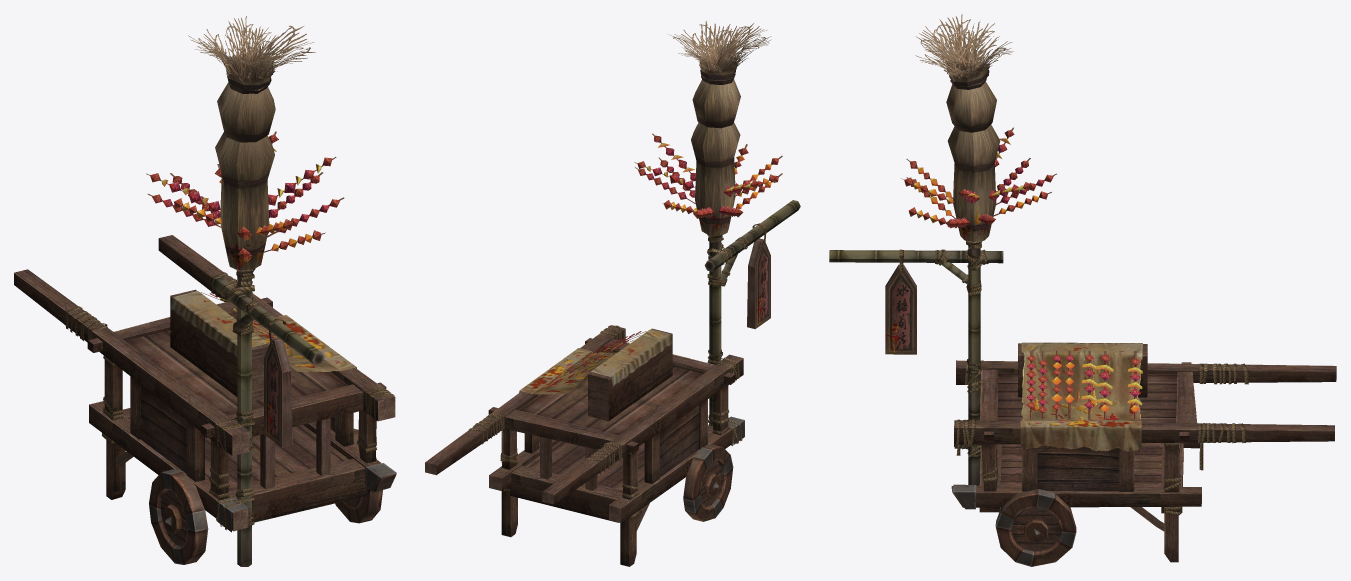
3 views of the same model, side by side, from view 1: azimuth 30°, elevation 25°; view 2: azimuth 150°, elevation 25°; view 3: azimuth 270°, elevation 25° (orthographic). The views are drawn at different scales.
Parts seen in each view (by area): view 1: gudaijishi136; view 2: gudaijishi136; view 3: gudaijishi136.
Boxes of the visible parts, box(x1,y1,x2,y2) form: gudaijishi136: box(14, 16, 396, 566); gudaijishi136: box(425, 20, 800, 566); gudaijishi136: box(829, 14, 1336, 566).
Bounding box in the file's own units: 16.6 × 37.19 × 36.63.
Materials: 2 (2 with a texture image).
